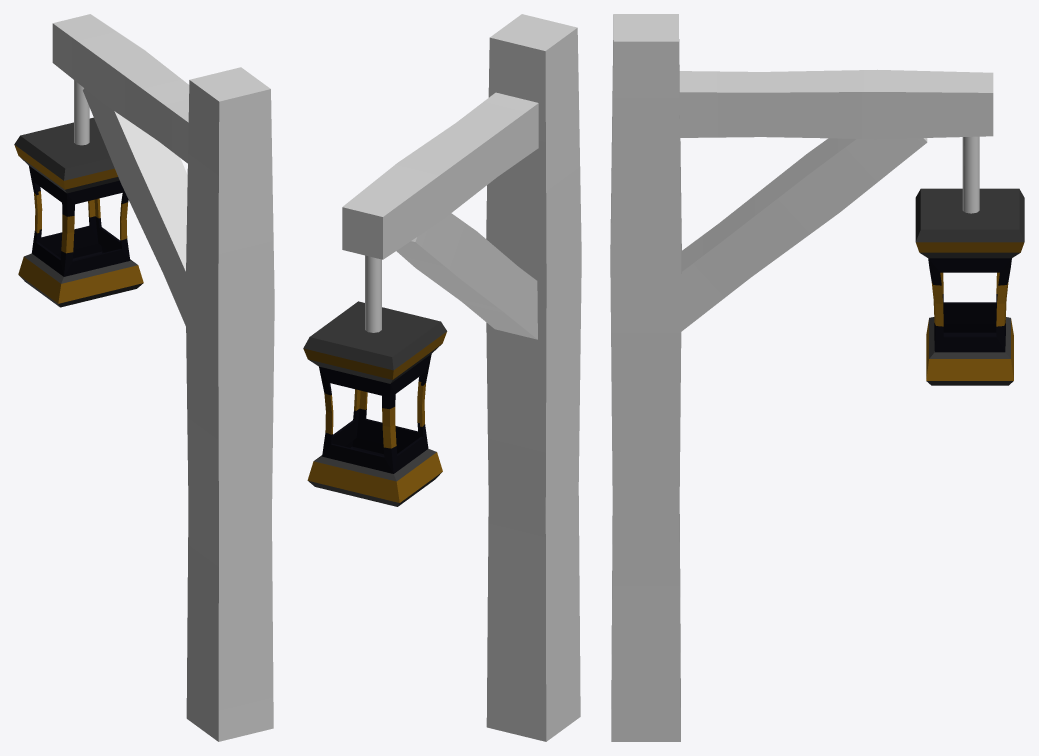
The model's file is Lanterne01.FBX.
The picture shows the model from 3 angles, left to right: view 1: azimuth 30°, elevation 25°; view 2: azimuth 150°, elevation 25°; view 3: azimuth 270°, elevation 25°; orthographic projection. The views are drawn at different scales.
Visible parts, largest first — view 1: Poutre017, Lanterne001, Poutre018, Poutre019, Cylinder017; view 2: Poutre017, Lanterne001, Poutre018, Poutre019, Cylinder017; view 3: Poutre017, Poutre018, Poutre019, Lanterne001, Cylinder017.
Part boxes in pixels (x1,y1,x2,y2): Poutre017: (185,67,274,741); Lanterne001: (14,117,143,307); Poutre018: (52,14,189,163); Poutre019: (83,88,187,325); Cylinder017: (74,80,89,145); Poutre017: (486,14,581,741); Lanterne001: (303,301,447,506); Poutre018: (342,92,538,259); Poutre019: (396,213,537,339); Cylinder017: (365,255,381,332); Poutre017: (610,14,681,741); Poutre018: (679,69,993,139); Poutre019: (681,138,927,331); Lanterne001: (915,188,1024,385); Cylinder017: (962,136,979,213).
Size of the model in its own units: 0.4962 by 3.54 by 1.9.
